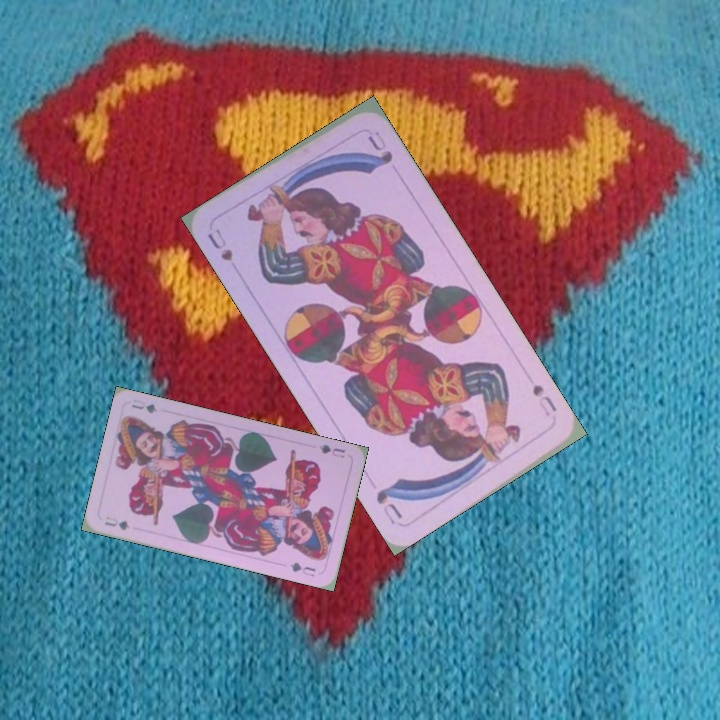GU: (315, 440, 348, 461), (101, 513, 133, 533)
SU: (203, 224, 236, 264), (528, 380, 560, 419)
